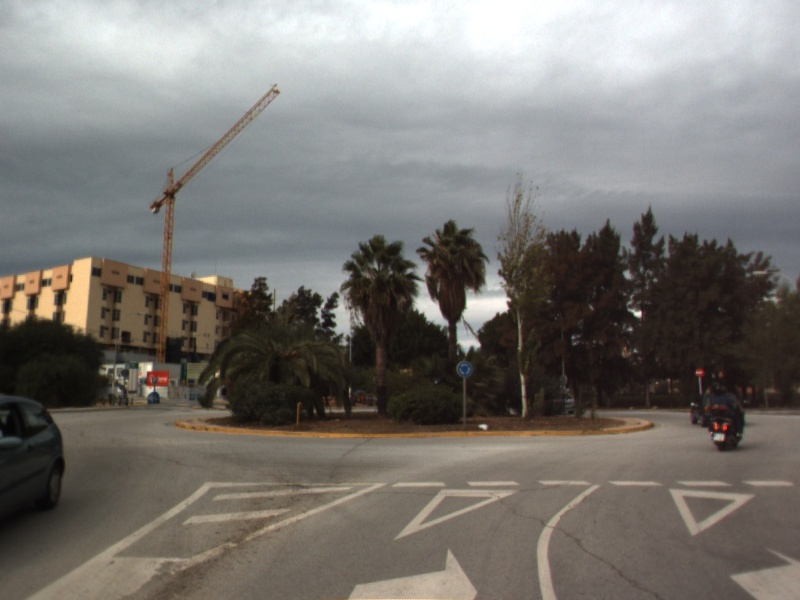RIGHT: (347, 545, 481, 600)
